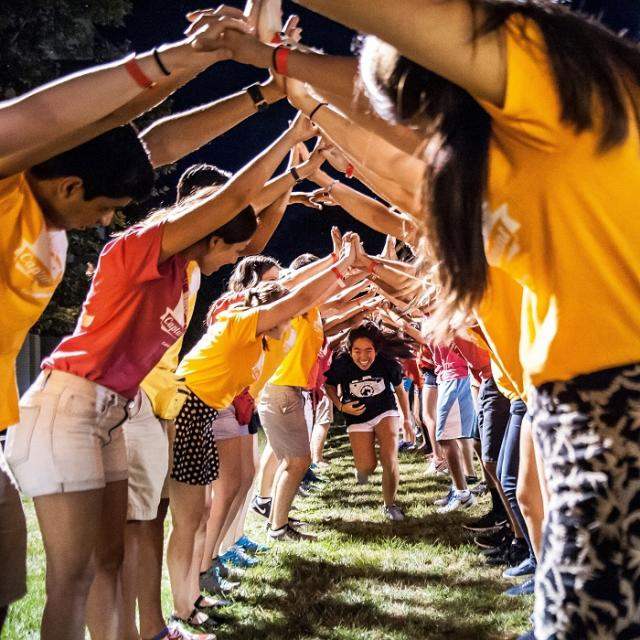body: (183, 2, 639, 606), (286, 2, 640, 640), (274, 0, 639, 570), (0, 0, 299, 638), (0, 104, 352, 639), (203, 1, 500, 514), (281, 15, 531, 552), (242, 133, 562, 534), (112, 136, 348, 640), (159, 232, 368, 638), (186, 220, 368, 606), (205, 224, 348, 571), (0, 7, 202, 151), (373, 296, 481, 517), (324, 325, 417, 523)
